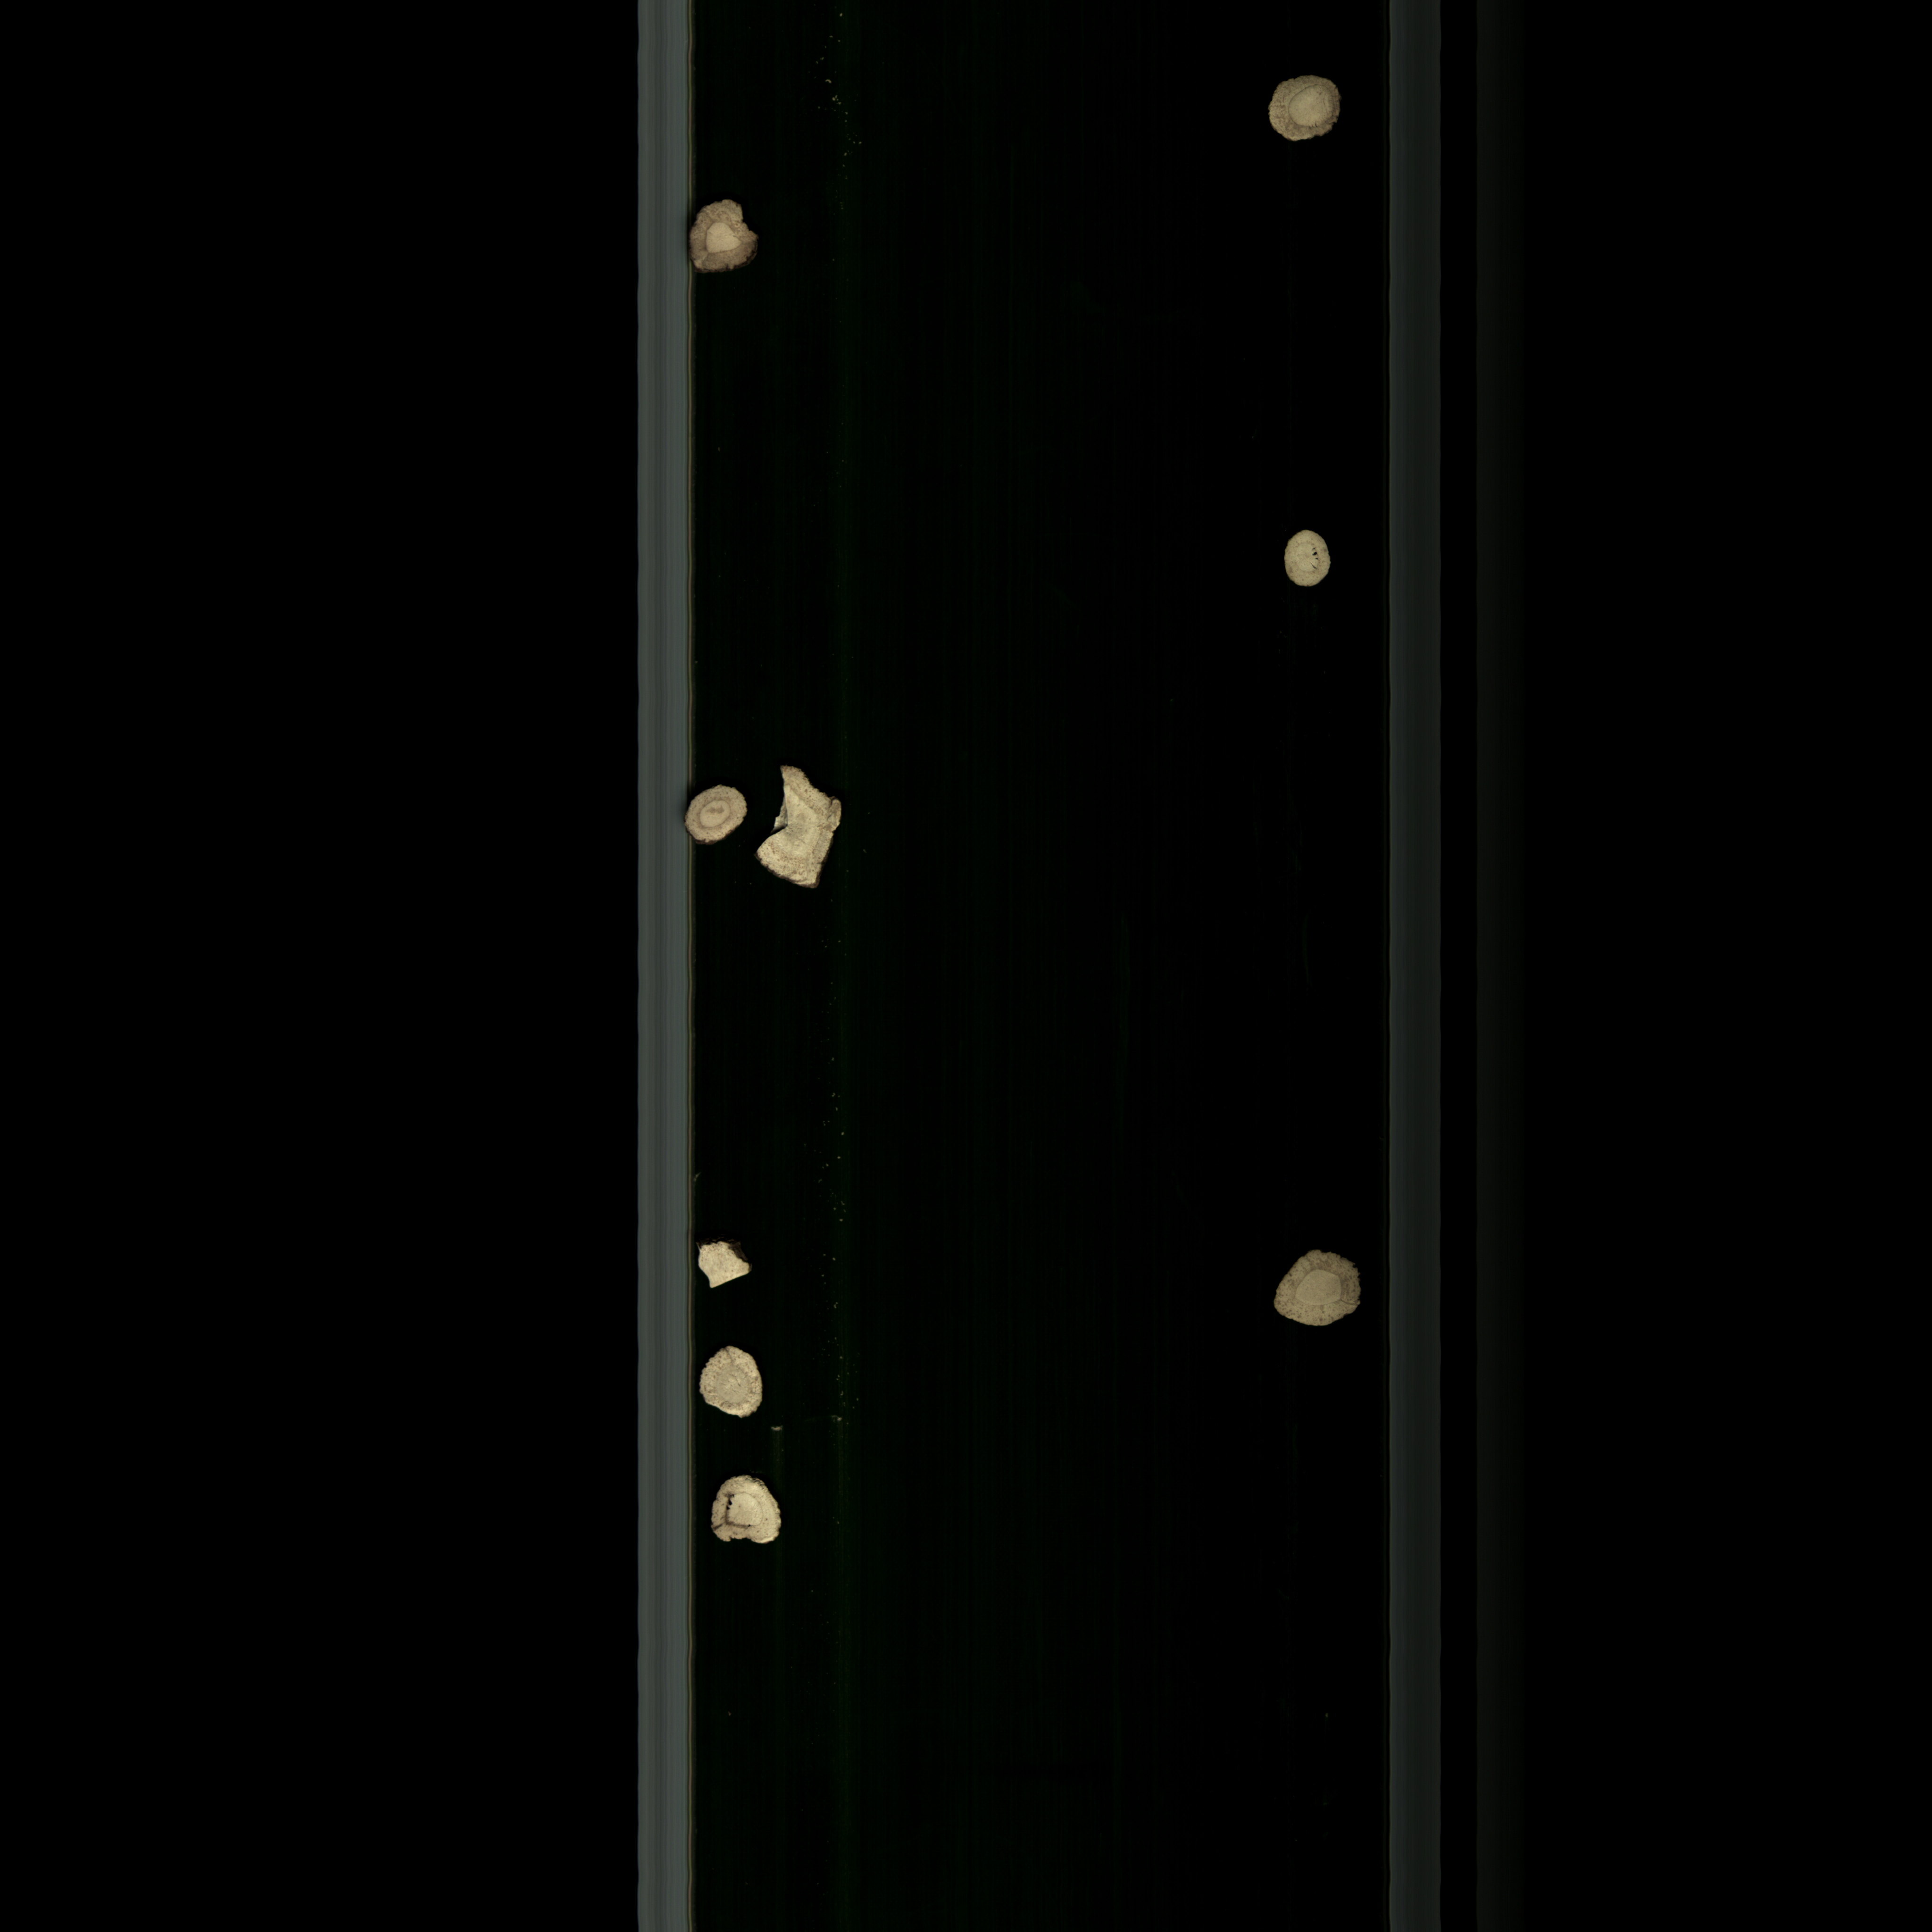debris: (757, 754, 863, 920)
dreg: (699, 1235, 768, 1290)
hole: (702, 1465, 807, 1564), (1281, 524, 1341, 598)
moldy: (1253, 1246, 1371, 1343), (1263, 67, 1359, 157), (688, 195, 766, 287)
